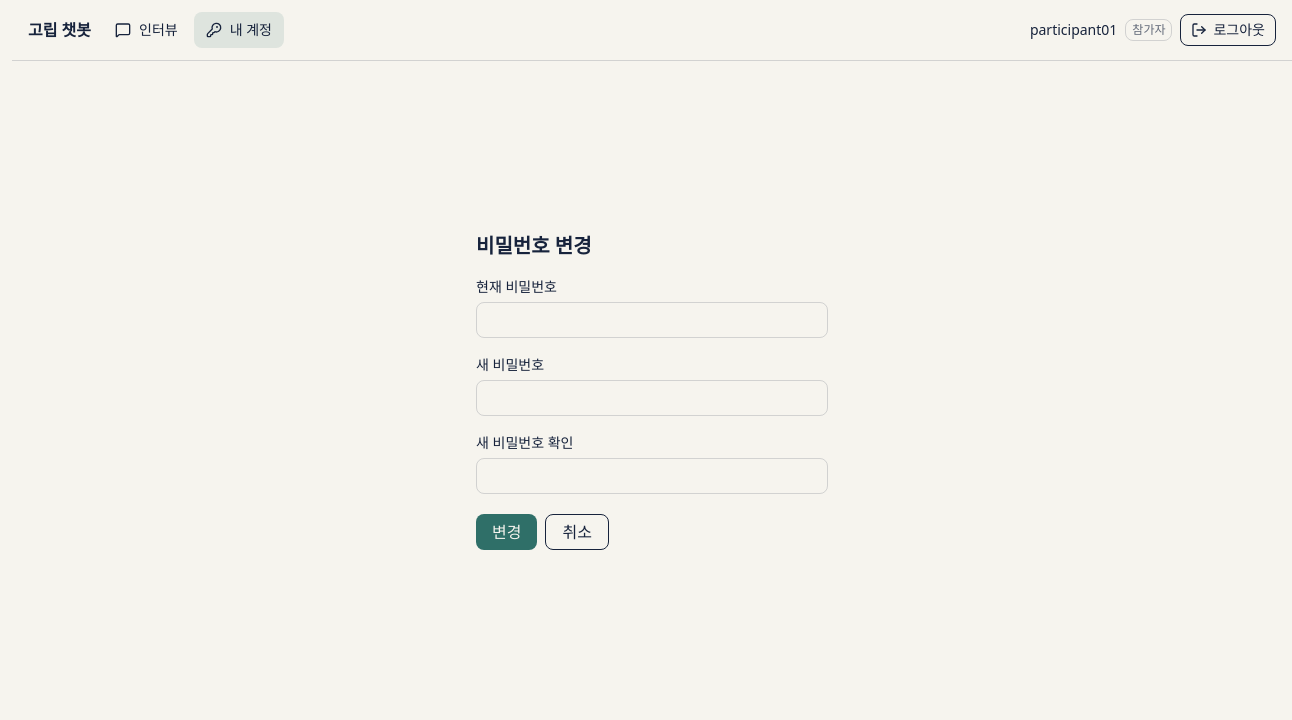
Test case: complete application route tree › clears the participant session and returns to login after changing a password
Expected: the heading "비밀번호 변경" is shown, [476,232,592,258]
Type "research123!" into the password field labelled "현재 비밀번호" at (652, 320), box [476,302,828,338]
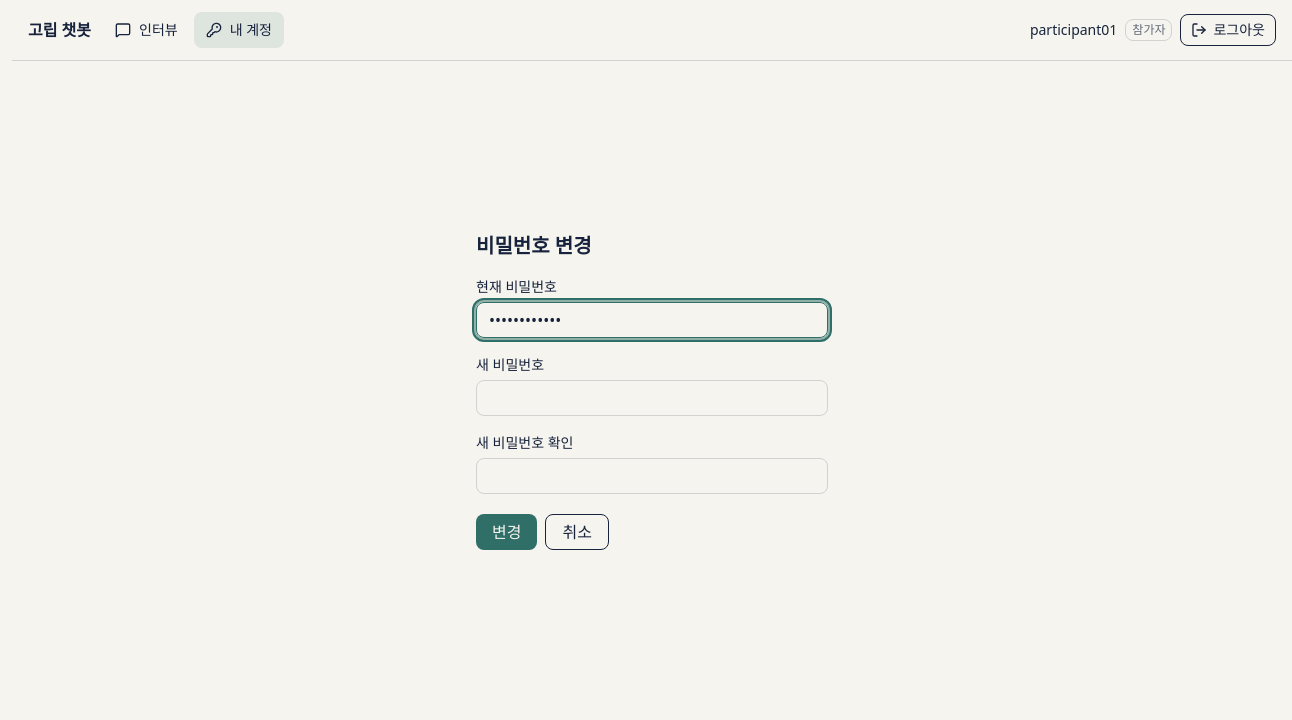
Type "changed-password!" into the password field labelled "새 비밀번호" at (652, 398), box [476,380,828,416]
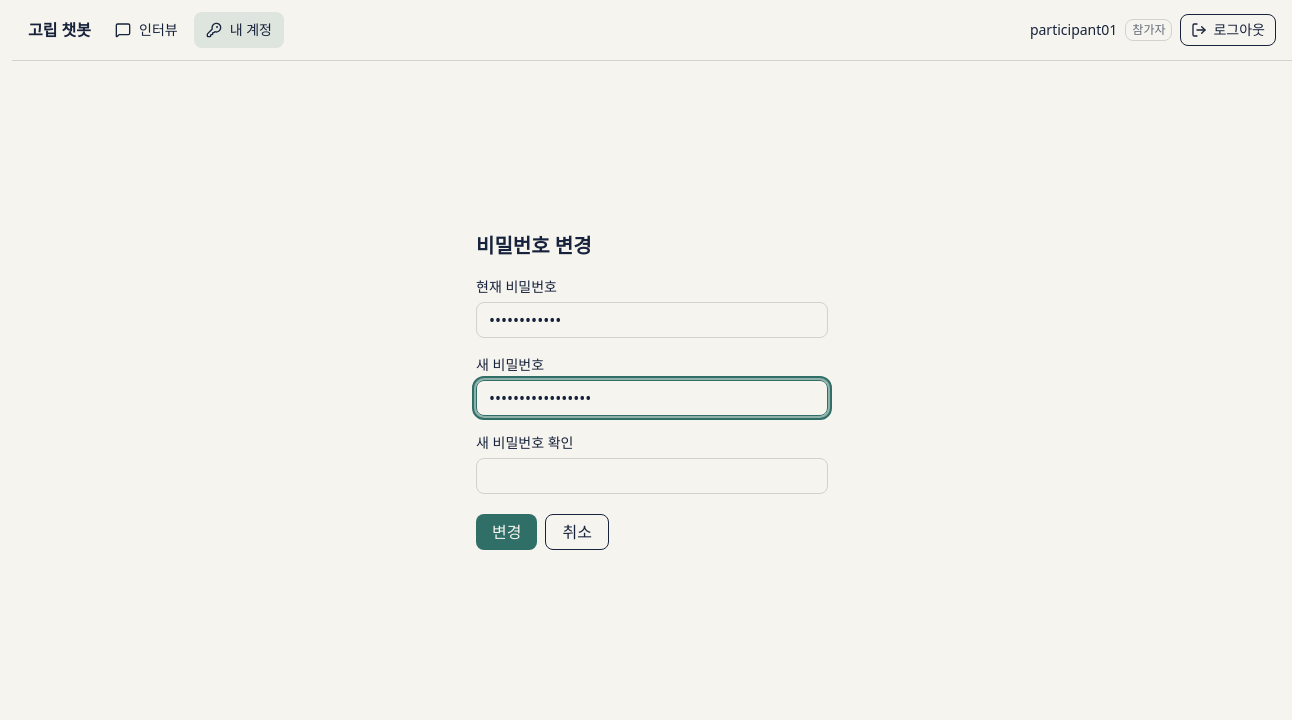
Type "changed-password!" into the password field labelled "새 비밀번호 확인" at (652, 476), box [476,458,828,494]
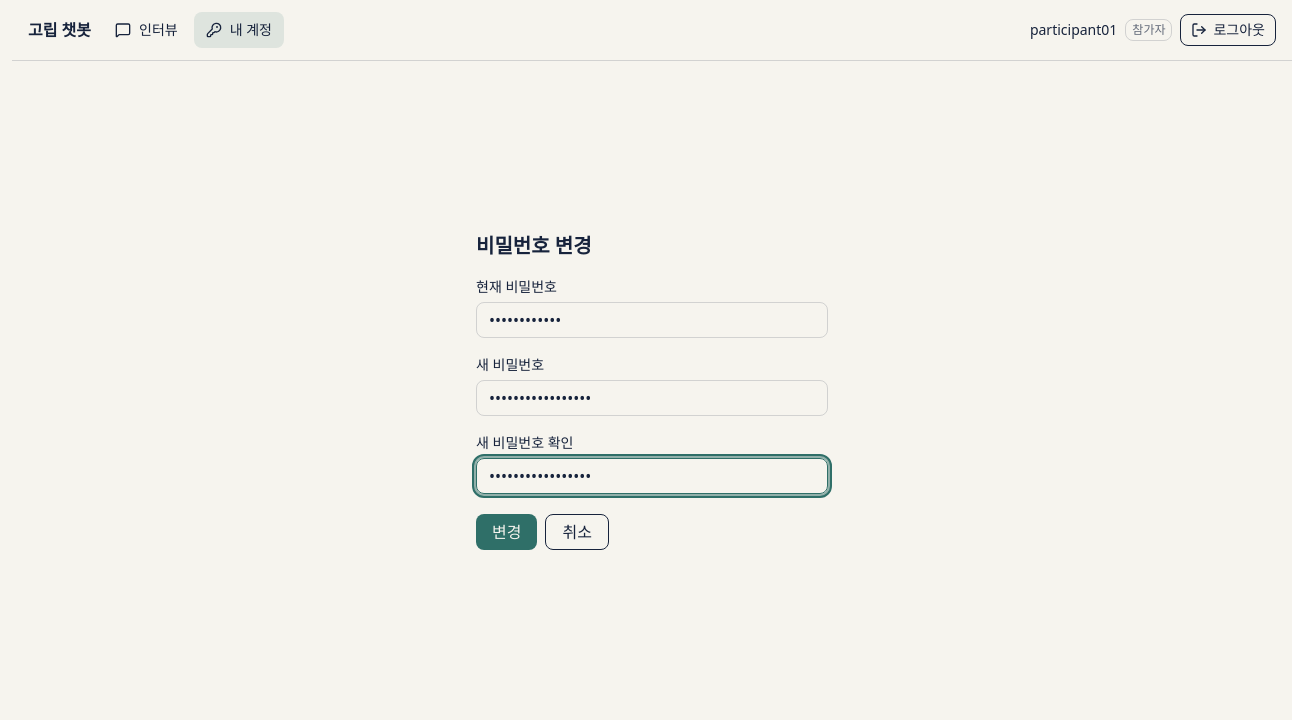
Click the button "변경" at (507, 532), box [476,514,538,550]
(page scrolled)
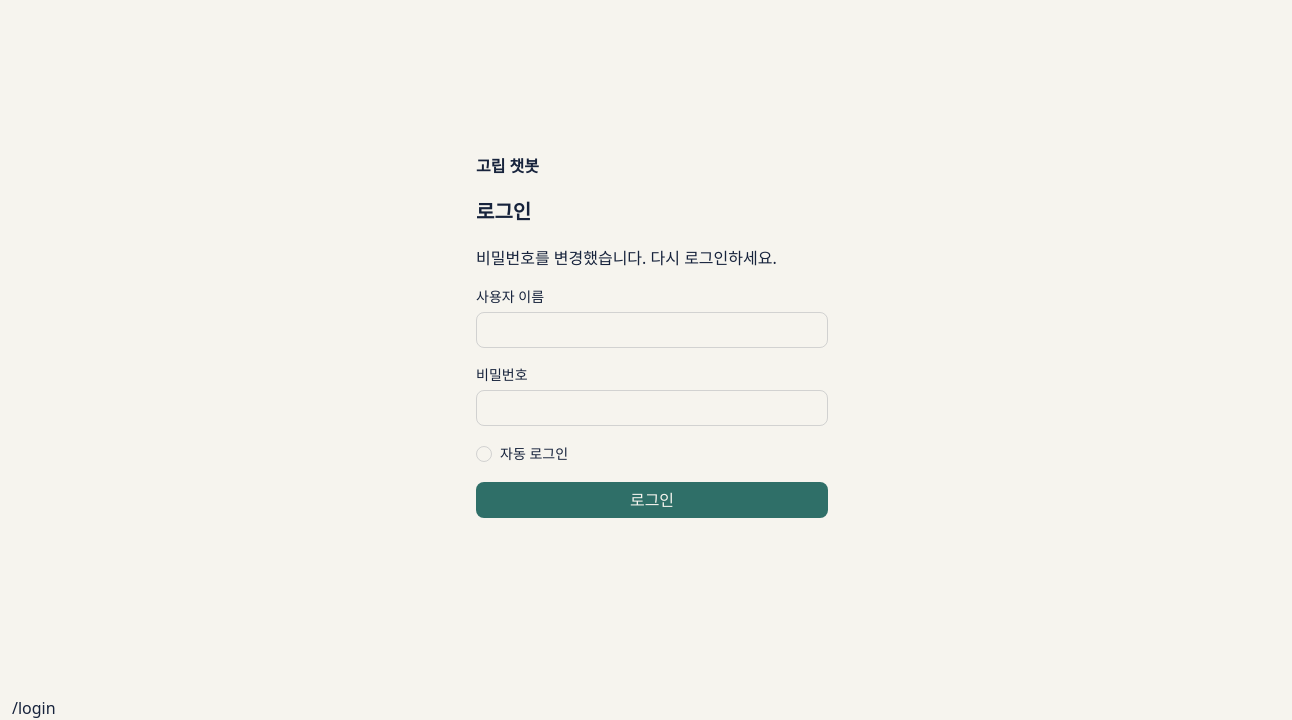
Now the heading "로그인" is shown, box [476,198,531,225]
Now the text "비밀번호를 변경했습니다. 다시 로그인하세요." is shown, box [476,246,828,270]
Now the text with test id "location-path" reads "/login", box [12,697,56,719]
